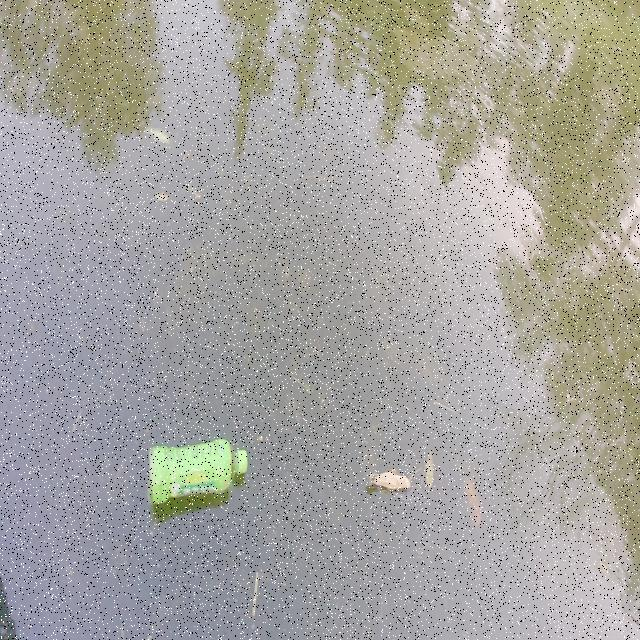Bottle: (143, 432, 253, 509)
